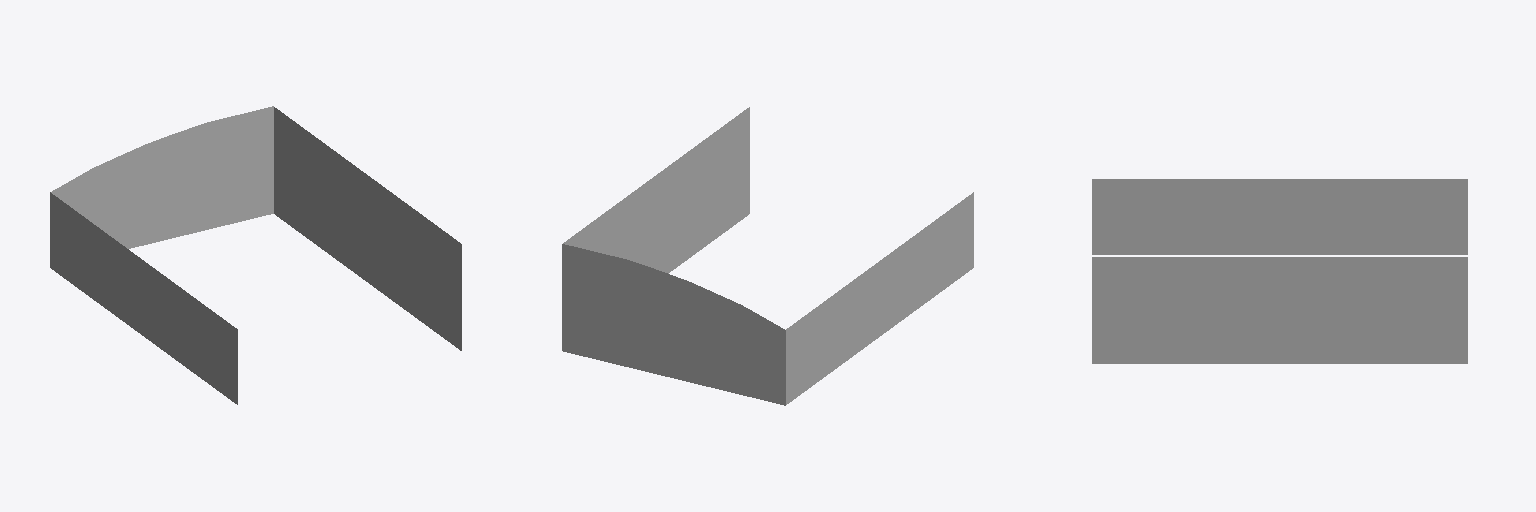
Rendered from walls.obj.
3 views of the same model, side by side, from view 1: azimuth 30°, elevation 25°; view 2: azimuth 150°, elevation 25°; view 3: azimuth 270°, elevation 25° (orthographic).
Parts seen in each view (by area): view 1: wallBack_geo; view 2: wallBack_geo; view 3: wallBack_geo.
Boxes of the visible parts, x1=… form: wallBack_geo: x1=50, y1=106, x2=461, y2=404; wallBack_geo: x1=562, y1=107, x2=973, y2=405; wallBack_geo: x1=1092, y1=179, x2=1467, y2=363.
Bounding box in the file's own units: 398 × 183 × 580.